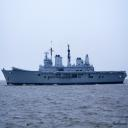Portanaves: (2, 41, 128, 87)
